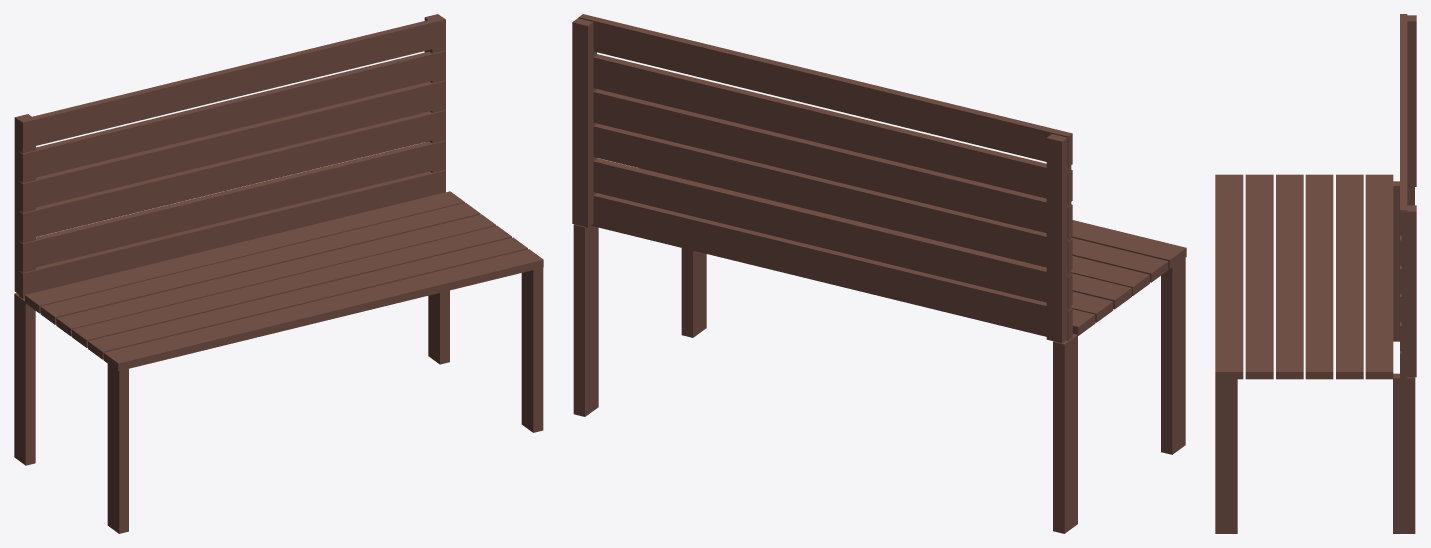
The model's file is 1stBench.fbx.
3 views of the same model, side by side, from view 1: azimuth 30°, elevation 25°; view 2: azimuth 150°, elevation 25°; view 3: azimuth 270°, elevation 25° (orthographic). The views are drawn at different scales.
Visible parts, largest first — view 1: Cube.015, Cube.011, Cube.014, Cube.013, Cube.012, Cube.010, Cube.004, Cube.008, Cube.005, Cube.006, Cube.009, Cube.007 (+5 smaller); view 2: Cube.015, Cube.011, Cube.014, Cube.013, Cube.012, Cube.010, Cube.003, Cube.001, Cube, Cube.017, Cube.016, Cube.002 (+5 smaller); view 3: Cube.004, Cube.005, Cube.007, Cube.009, Cube.006, Cube.008, Cube.003, Cube.002, Cube.016, Cube.017, Cube.015, Cube.001.
Part boxes in pixels (bbox=[...]): Cube.015: bbox=[19, 17, 445, 148]; Cube.011: bbox=[19, 140, 445, 270]; Cube.014: bbox=[19, 50, 445, 180]; Cube.013: bbox=[19, 80, 445, 210]; Cube.012: bbox=[19, 110, 445, 240]; Cube.010: bbox=[19, 170, 445, 298]; Cube.004: bbox=[103, 249, 543, 371]; Cube.008: bbox=[40, 202, 480, 324]; Cube.005: bbox=[88, 237, 527, 359]; Cube.006: bbox=[72, 225, 511, 347]; Cube.009: bbox=[25, 191, 464, 313]; Cube.007: bbox=[56, 214, 496, 336]; Cube.015: bbox=[578, 14, 1072, 167]; Cube.011: bbox=[593, 158, 1072, 307]; Cube.014: bbox=[593, 54, 1072, 203]; Cube.013: bbox=[593, 89, 1072, 238]; Cube.012: bbox=[593, 123, 1072, 272]; Cube.010: bbox=[591, 193, 1072, 340]; Cube.003: bbox=[573, 224, 598, 416]; Cube.001: bbox=[1053, 334, 1077, 533]; Cube: bbox=[1161, 258, 1185, 454]; Cube.017: bbox=[1046, 134, 1071, 343]; Cube.016: bbox=[572, 18, 596, 227]; Cube.002: bbox=[681, 248, 706, 337]; Cube.004: bbox=[1215, 174, 1243, 379]; Cube.005: bbox=[1245, 174, 1273, 379]; Cube.007: bbox=[1305, 174, 1333, 379]; Cube.009: bbox=[1365, 174, 1393, 379]; Cube.006: bbox=[1276, 174, 1303, 379]; Cube.008: bbox=[1336, 174, 1363, 379]; Cube.003: bbox=[1393, 373, 1415, 533]; Cube.002: bbox=[1215, 379, 1237, 533]; Cube.016: bbox=[1401, 205, 1416, 377]; Cube.017: bbox=[1407, 15, 1416, 186]; Cube.015: bbox=[1400, 14, 1407, 235]; Cube.001: bbox=[1393, 181, 1414, 341].
Bounding box in the file's own units: 3361 × 2567 × 1446.
